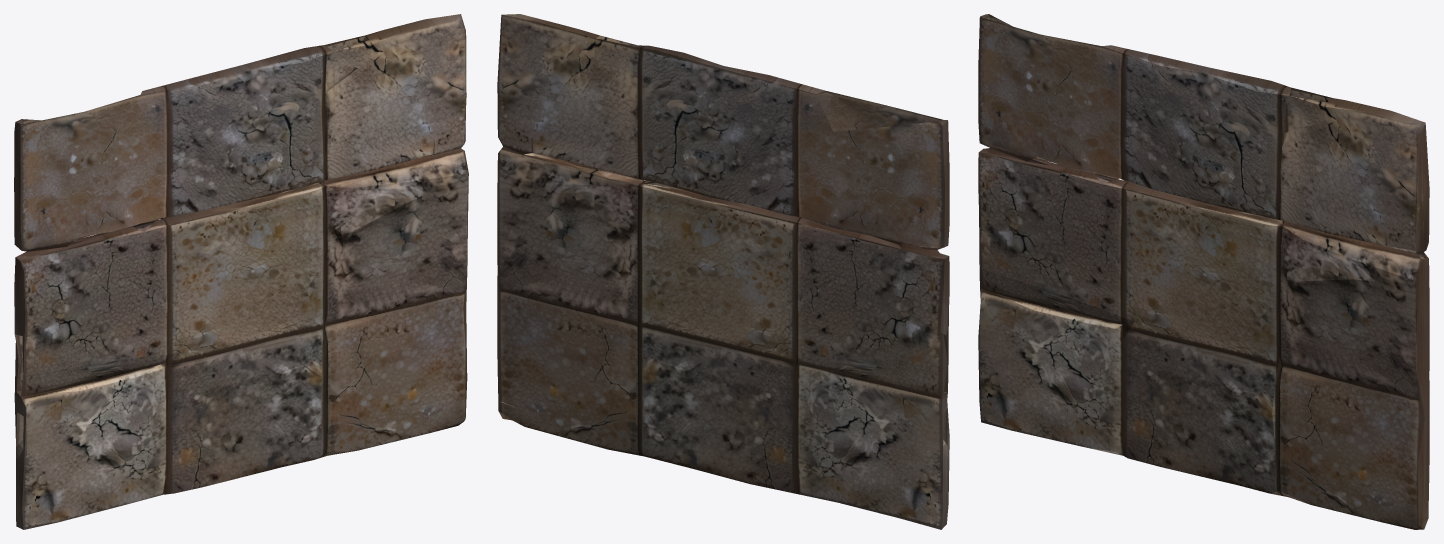
File: sol_dalle_pierre.glb
3 views of the same model, side by side, from view 1: azimuth 30°, elevation 25°; view 2: azimuth 150°, elevation 25°; view 3: azimuth 330°, elevation 25° (orthographic).
Visible parts, largest first — view 1: world; view 2: world; view 3: world.
Boxes of the visible parts, x1,y1,x2,y2 form: world: (14, 14, 468, 529); world: (497, 14, 949, 529); world: (978, 14, 1429, 529).
Bounding box in the file's own units: 1 × 0.8758 × 0.0547.
1 material, 1 textured.
